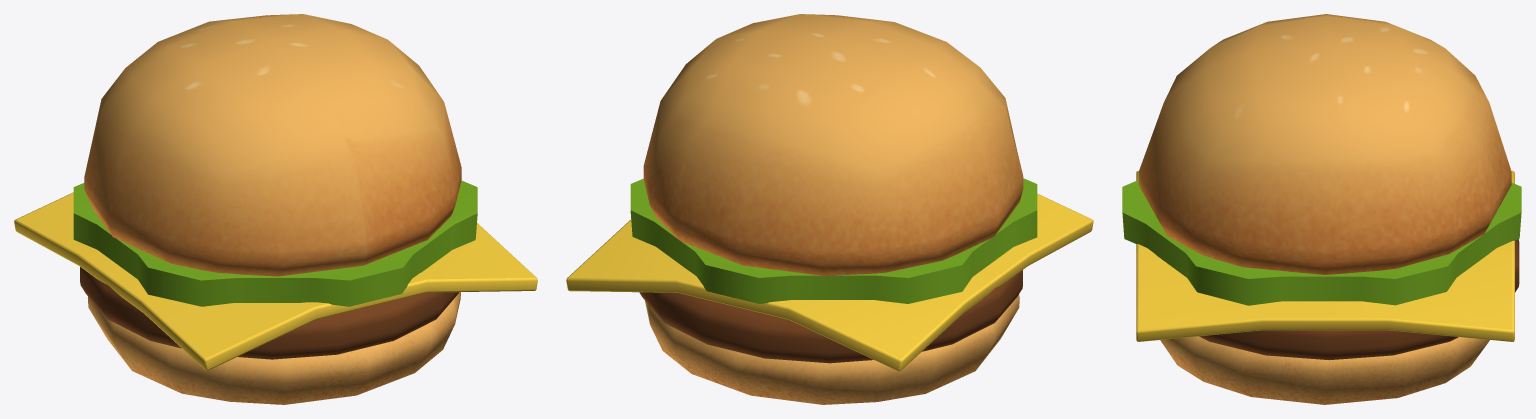
Rendered from burger.fbx.
The picture shows the model from 3 angles, left to right: view 1: azimuth 30°, elevation 25°; view 2: azimuth 150°, elevation 25°; view 3: azimuth 270°, elevation 25°; orthographic projection.
Parts seen in each view (by area): view 1: Box002; view 2: Box002; view 3: Box002.
Part boxes in pixels (x1,y1,x2,y2): Box002: [14, 14, 537, 404]; Box002: [566, 14, 1093, 404]; Box002: [1122, 14, 1521, 404].
Size of the model in its own units: 16.78 by 14.53 by 17.37.
